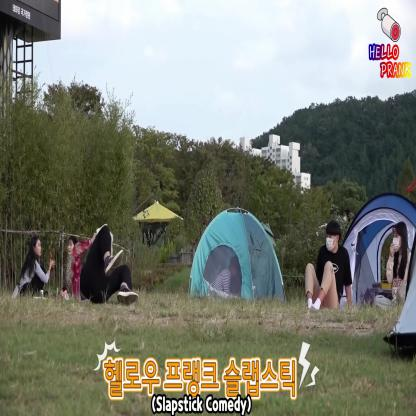Fall_Down: (72, 224, 139, 307)
